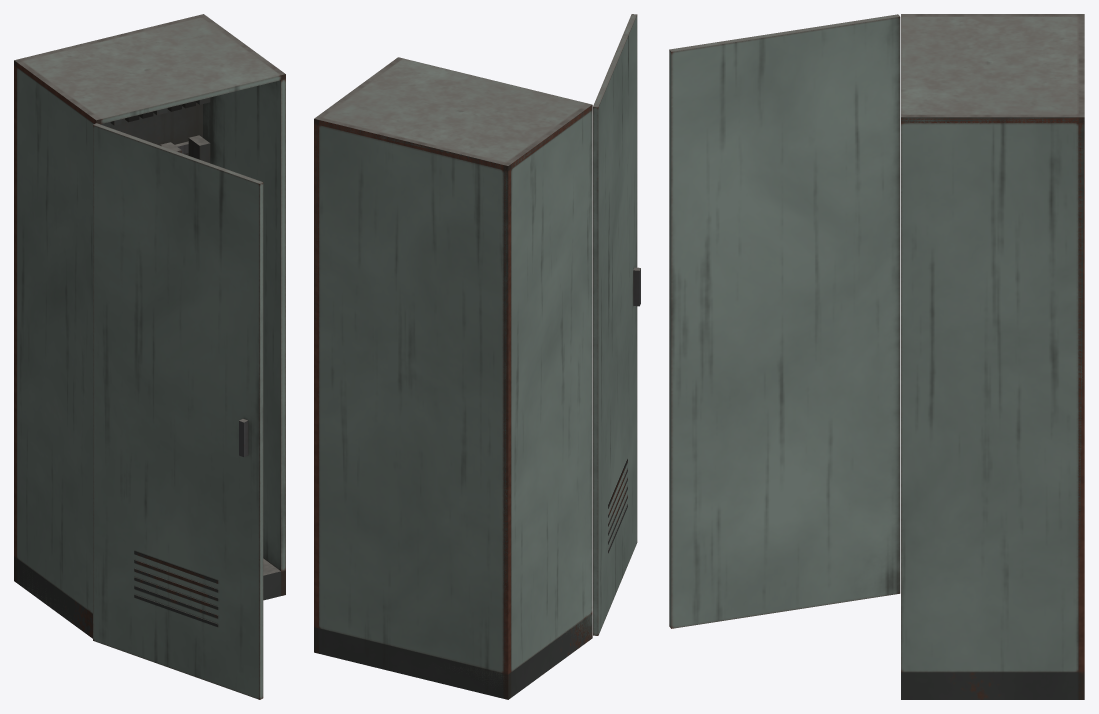
Rendered from SM_RelayCabinet_Open.fbx.
The picture shows the model from 3 angles, left to right: view 1: azimuth 30°, elevation 25°; view 2: azimuth 150°, elevation 25°; view 3: azimuth 270°, elevation 25°; orthographic projection. The views are drawn at different scales.
Parts seen in each view (by area): view 1: SM_RelayCabinet_Open; view 2: SM_RelayCabinet_Open; view 3: SM_RelayCabinet_Open.
Boxes of the visible parts, left/top/right/bottom form: SM_RelayCabinet_Open: left=14, top=14, right=285, bottom=699; SM_RelayCabinet_Open: left=314, top=14, right=640, bottom=699; SM_RelayCabinet_Open: left=669, top=14, right=1084, bottom=699.
Bounding box in the file's own units: 0.819 × 2.1 × 1.36.
Materials: 1 (1 with a texture image).
